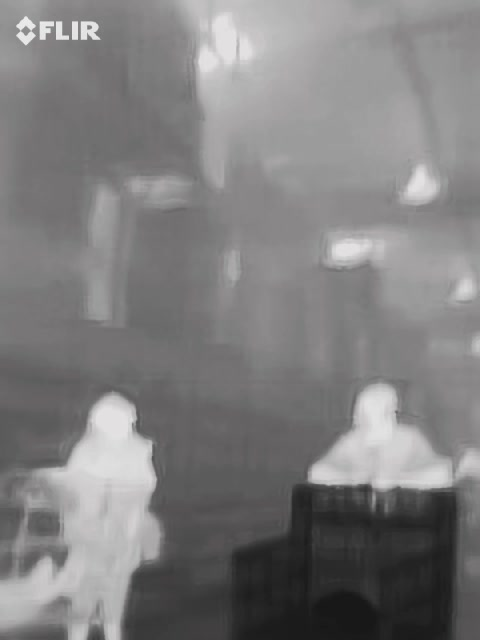head: (89, 391, 137, 444), (354, 381, 399, 437)
